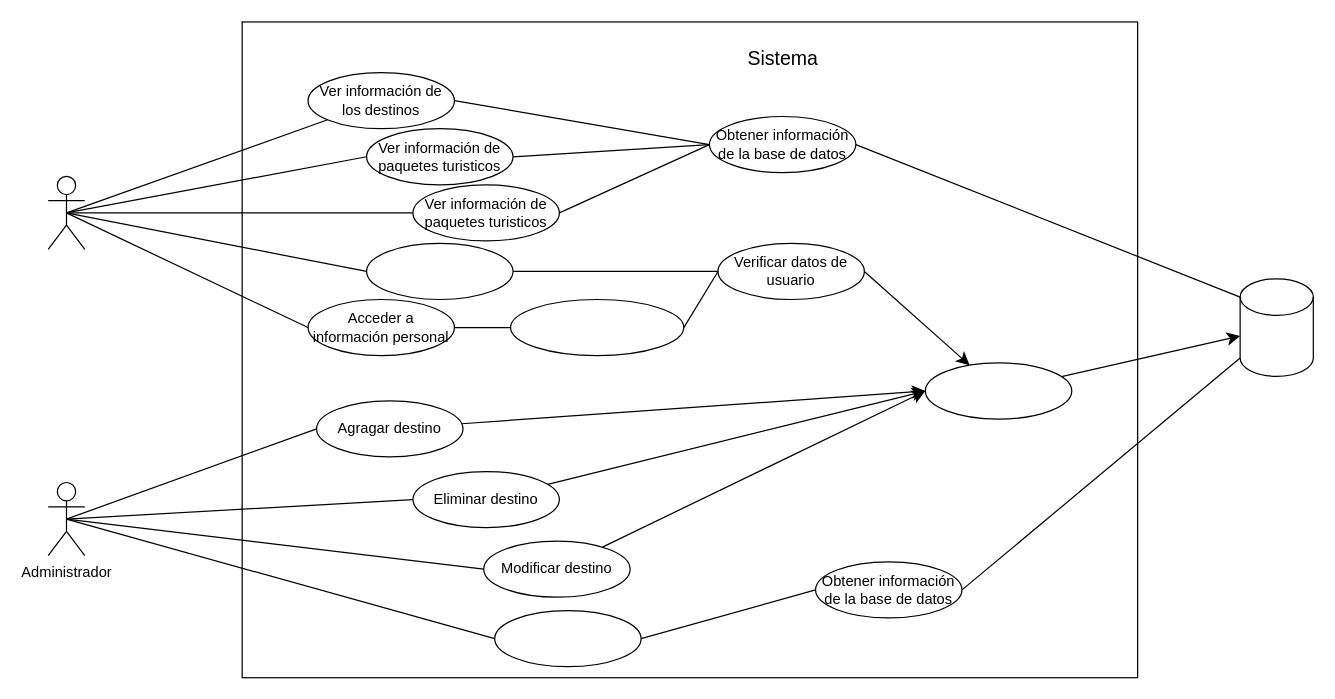
Some shapes in this 1335 by 699 pixel diagram are drawn without their labels. The shapes that lost their labels are listed below. From the top down, each one's centre as x and y in pixels, then its label:
the point at 66,212: Cliente
the point at 439,271: Reservar paquete turistico
the point at 596,327: Modificar información personal
the point at 1276,327: Base de datos
the point at 998,390: Registrar en la base de datos
the point at 567,638: Mostrar todos los destinos
